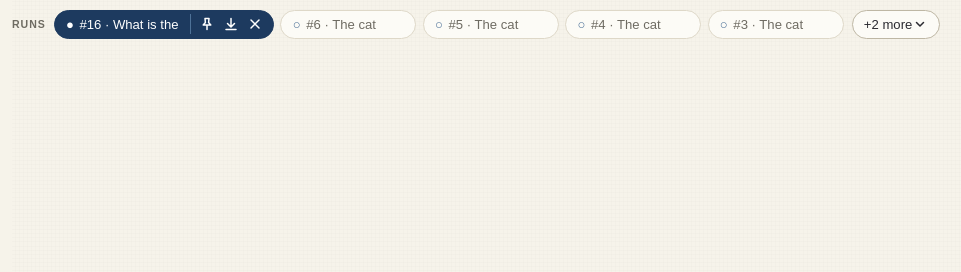
Test: chip and list text for a chat run at T=0.8
Expected: the button with test id "run-chip-main" shows "#16 · What is the", [55,11,190,38]
Click the button with test id "run-more" at {"x": 896, "y": 24}, box [852,10,940,39]
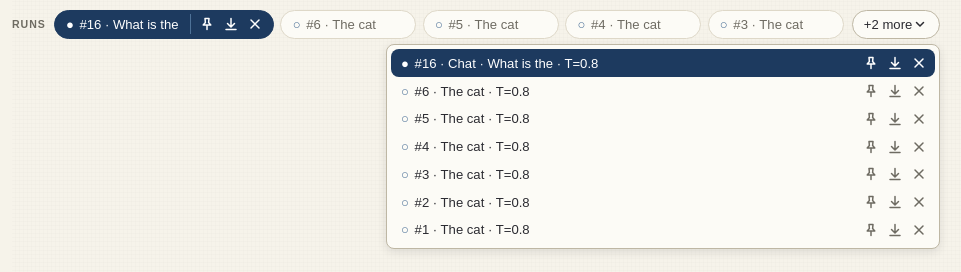
Expected: the button with test id "run-list-main" shows "#16 · Chat · What is the · T=0.8", [392,49,854,77]
